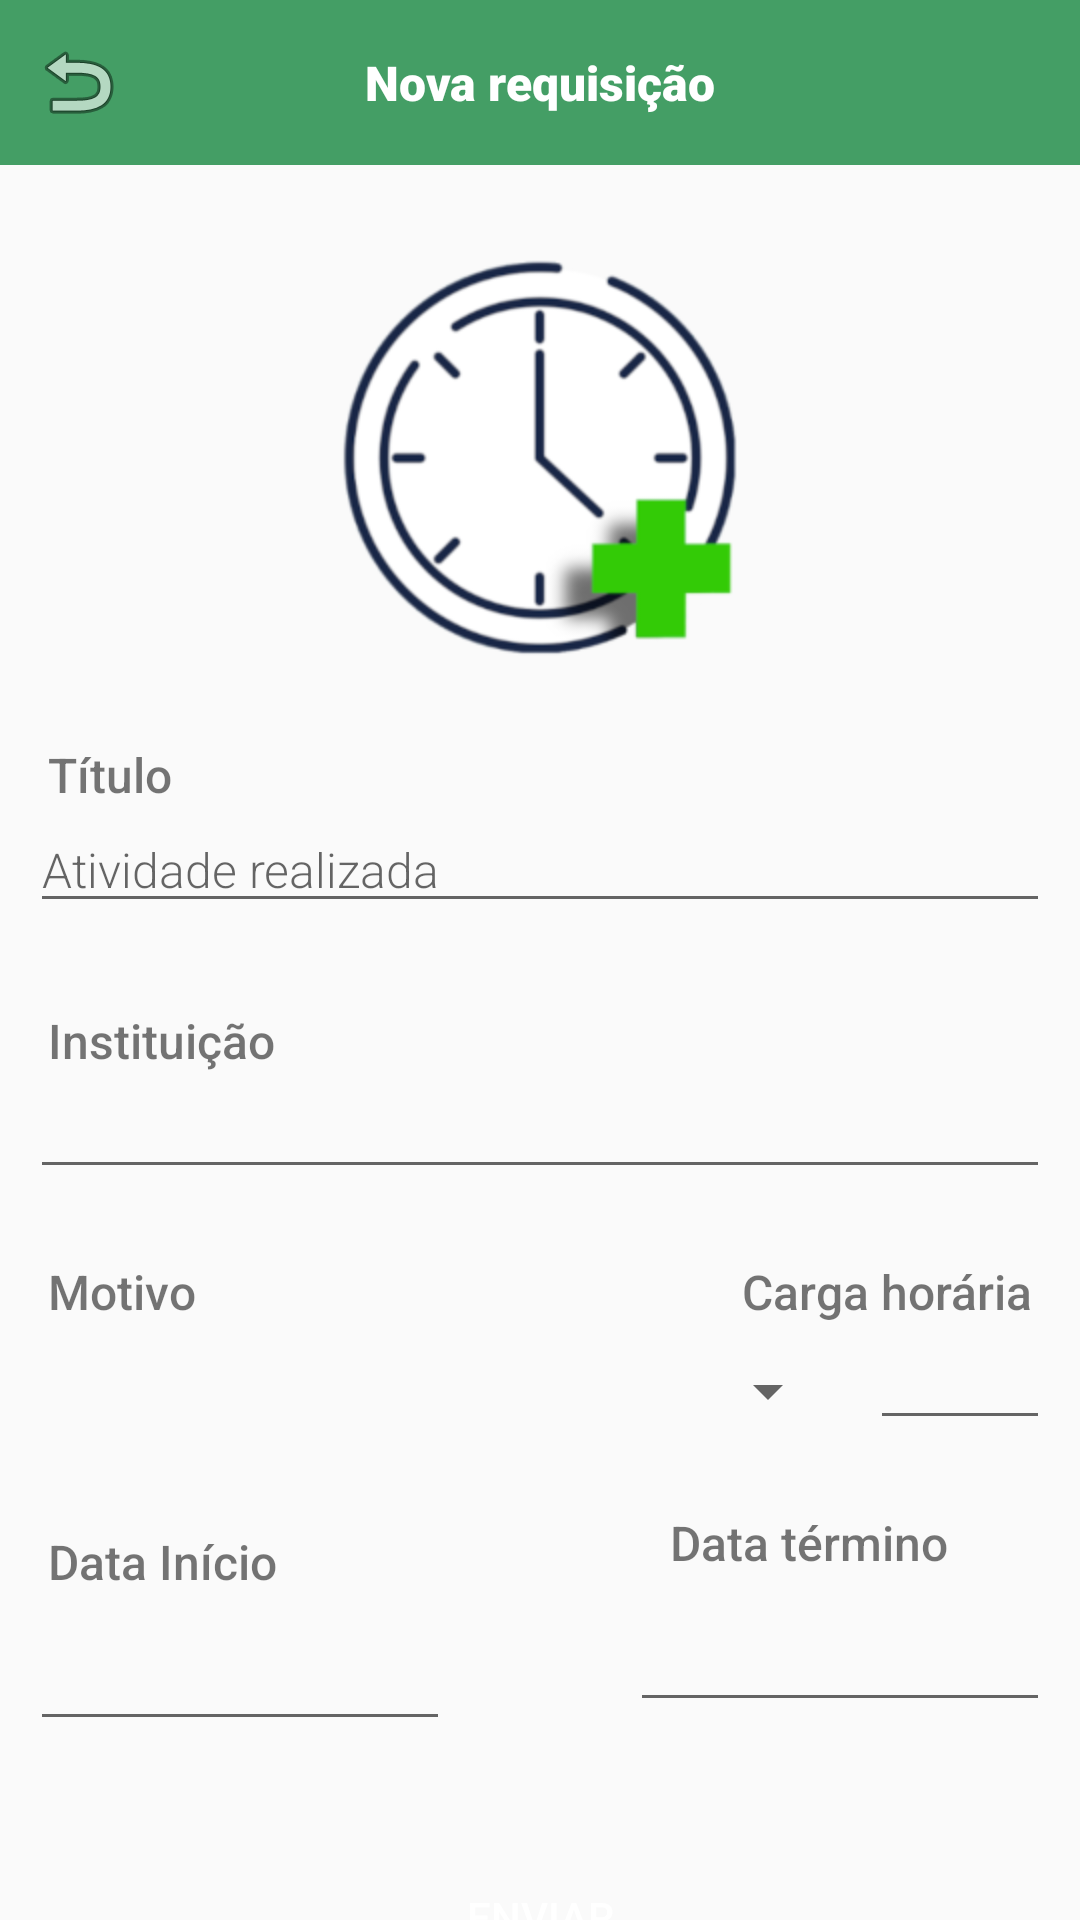

Icon click points for this 1080 x 1920 phone screenshot, format point (x, y):
revert: point (79, 83)
